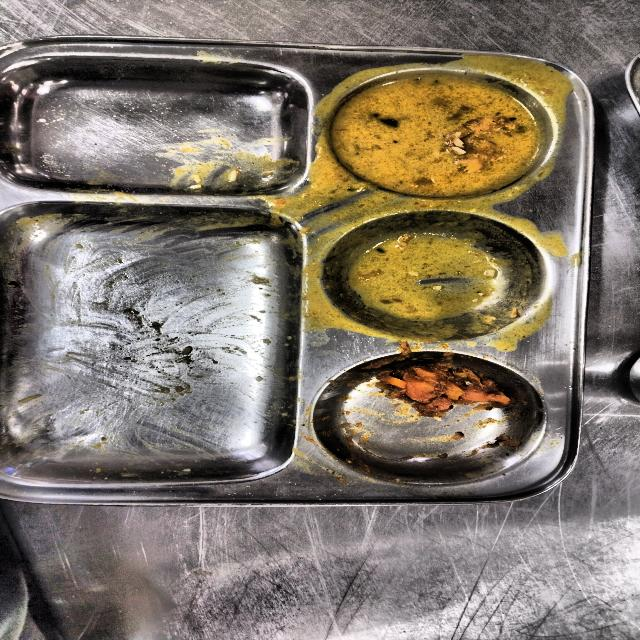33: (330, 76, 539, 197)
Bundi: (344, 352, 531, 475)
